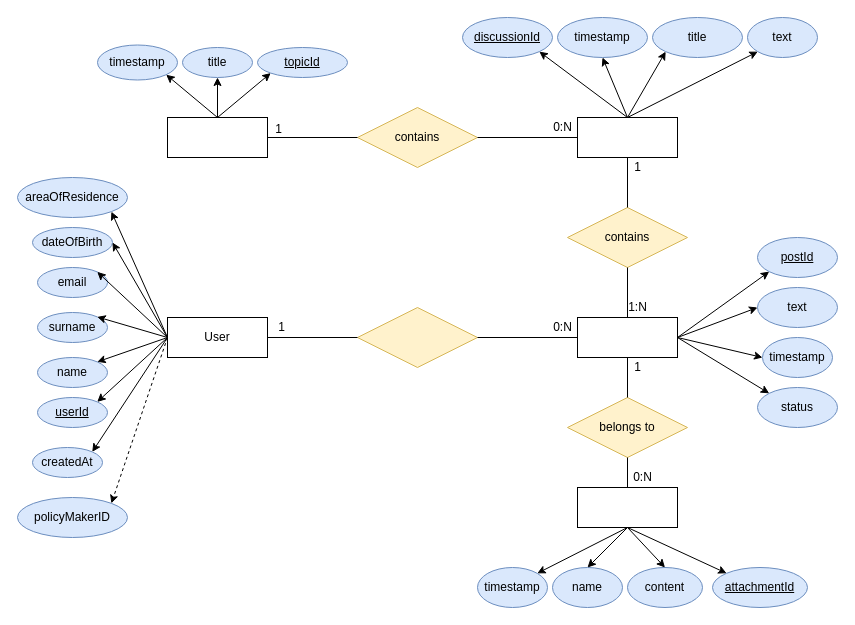
Some shapes in this 855 by 625 pixel diagram are drawn without their labels. Each missing label, with the centre of its shape:
"Attachment" belongs at (627,507).
"Discussion" belongs at (627,137).
"is created by" belongs at (417,337).
"Post" belongs at (627,337).
"Topic" belongs at (217,137).
